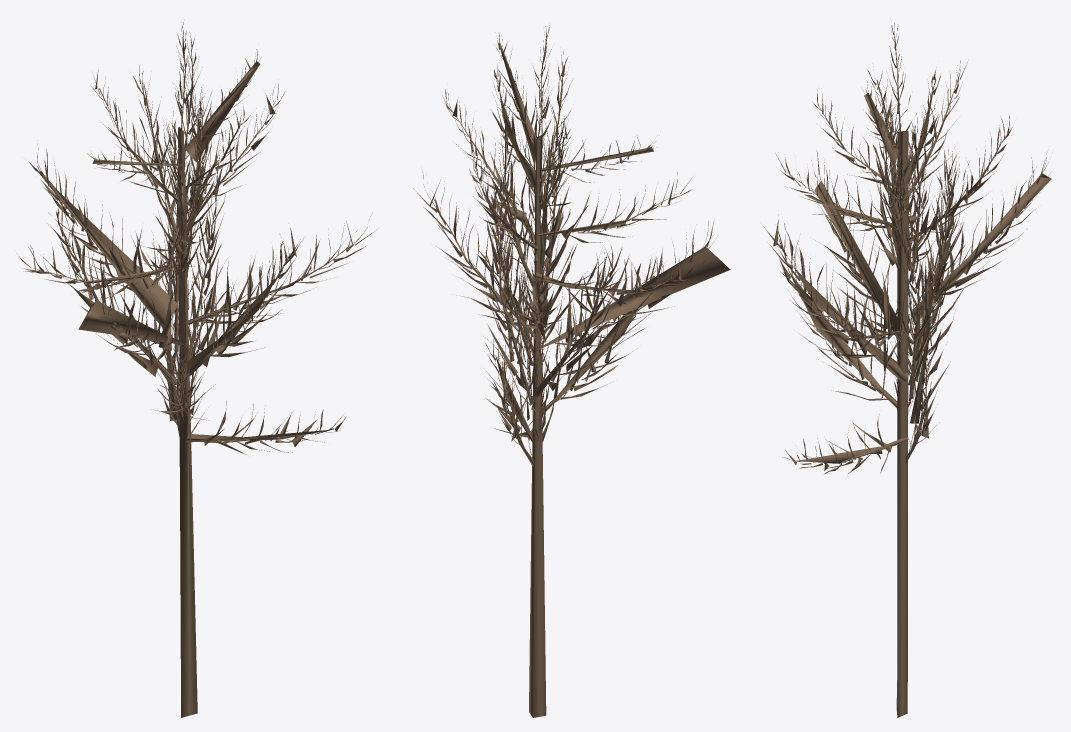
File: Pine_01_LOD1.fbx
3 views of the same model, side by side, from view 1: azimuth 30°, elevation 25°; view 2: azimuth 150°, elevation 25°; view 3: azimuth 270°, elevation 25° (orthographic).
Parts seen in each view (by area): view 1: Pine; view 2: Pine; view 3: Pine.
Boxes of the visible parts, left/top/right/bottom form: Pine: left=19, top=22, right=377, bottom=717; Pine: left=413, top=25, right=730, bottom=717; Pine: left=763, top=19, right=1051, bottom=717.
Size of the model in its own units: 795 by 1647 by 637.
